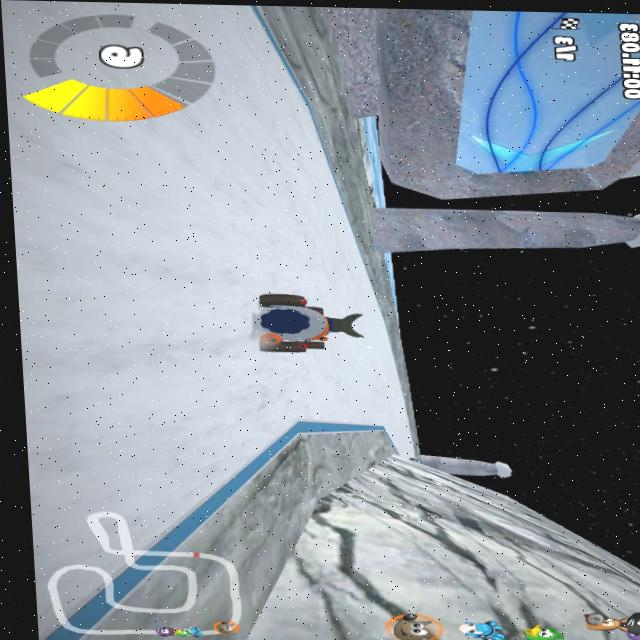player_kart: (240, 290, 365, 362)
track: (0, 0, 242, 362), (23, 357, 351, 423), (35, 456, 132, 603), (28, 415, 267, 461), (214, 5, 283, 130), (234, 221, 352, 291), (229, 130, 296, 224), (124, 456, 206, 511), (289, 131, 331, 224), (353, 365, 394, 429), (363, 296, 397, 364), (281, 84, 311, 132), (349, 253, 379, 295), (130, 510, 170, 537), (388, 374, 409, 422), (391, 423, 419, 456), (204, 459, 237, 478)
